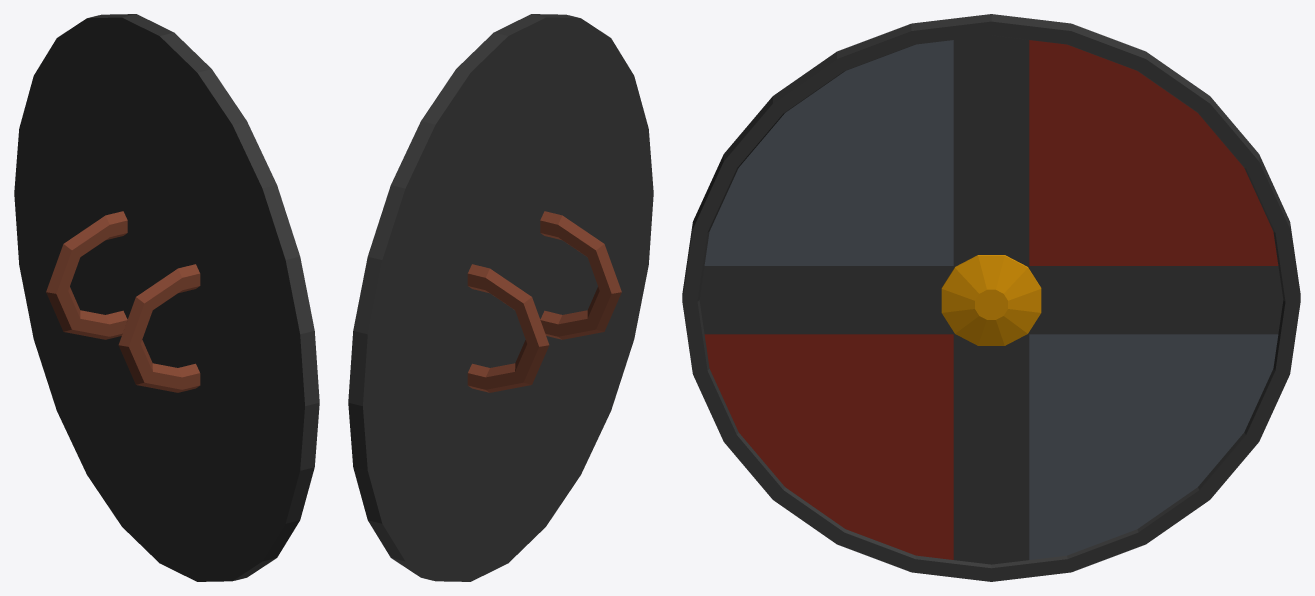
File: Shield.fbx
The picture shows the model from 3 angles, left to right: view 1: azimuth 30°, elevation 25°; view 2: azimuth 150°, elevation 25°; view 3: azimuth 270°, elevation 25°; orthographic projection. The views are drawn at different scales.
Parts seen in each view (by area): view 1: Shield; view 2: Shield; view 3: Shield.
Part boxes in pixels (bbox=[...]): Shield: bbox=[14, 14, 319, 581]; Shield: bbox=[348, 14, 653, 581]; Shield: bbox=[682, 14, 1300, 581].
Bounding box in the file's own units: 0.3889 × 2 × 2.
